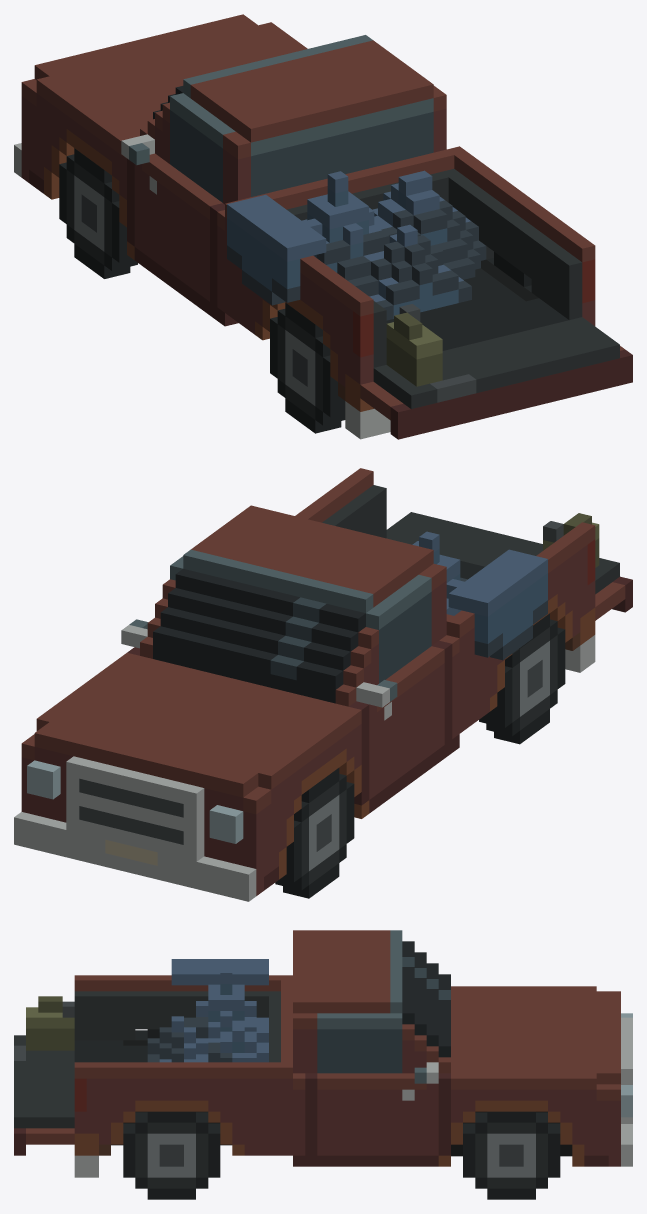
The model's file is Claude_pickup_truck.glb.
3 renders of one model, top to bottom at view 1: azimuth 30°, elevation 25°; view 2: azimuth 150°, elevation 25°; view 3: azimuth 270°, elevation 25°, orthographic. The views are drawn at different scales.
Parts seen in each view (by area): view 1: Claude_pickup_truck; view 2: Claude_pickup_truck; view 3: Claude_pickup_truck.
Part boxes in pixels (x1=…): Claude_pickup_truck: x1=14, y1=14, x2=632, y2=439; Claude_pickup_truck: x1=14, y1=468, x2=632, y2=901; Claude_pickup_truck: x1=14, y1=930, x2=632, y2=1199.
Size of the model in its own units: 2 by 1.7 by 5.1.
